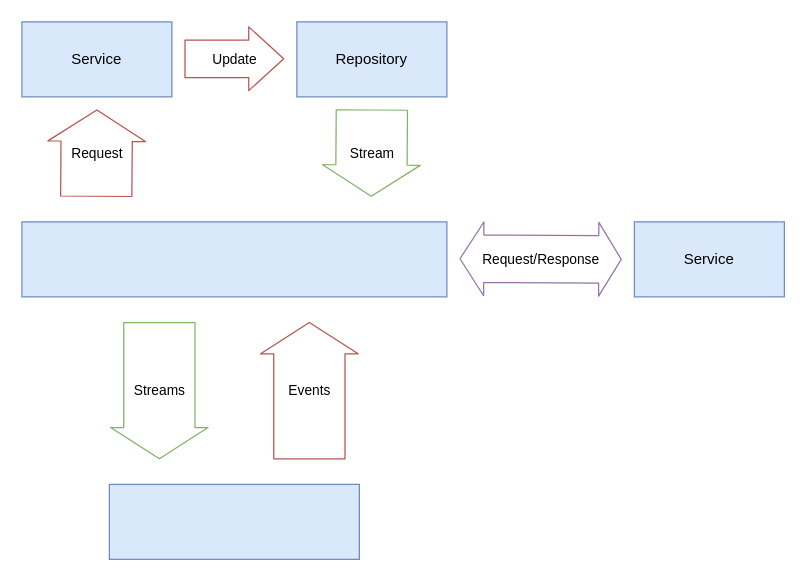
Image size: 806x581. Some labels were removed from this diagram. The centre of each missing label's shape, as x and y in pixels:
"ViewModel / BLoC" goes at (x=234, y=259).
"Widget" goes at (x=233, y=521).
